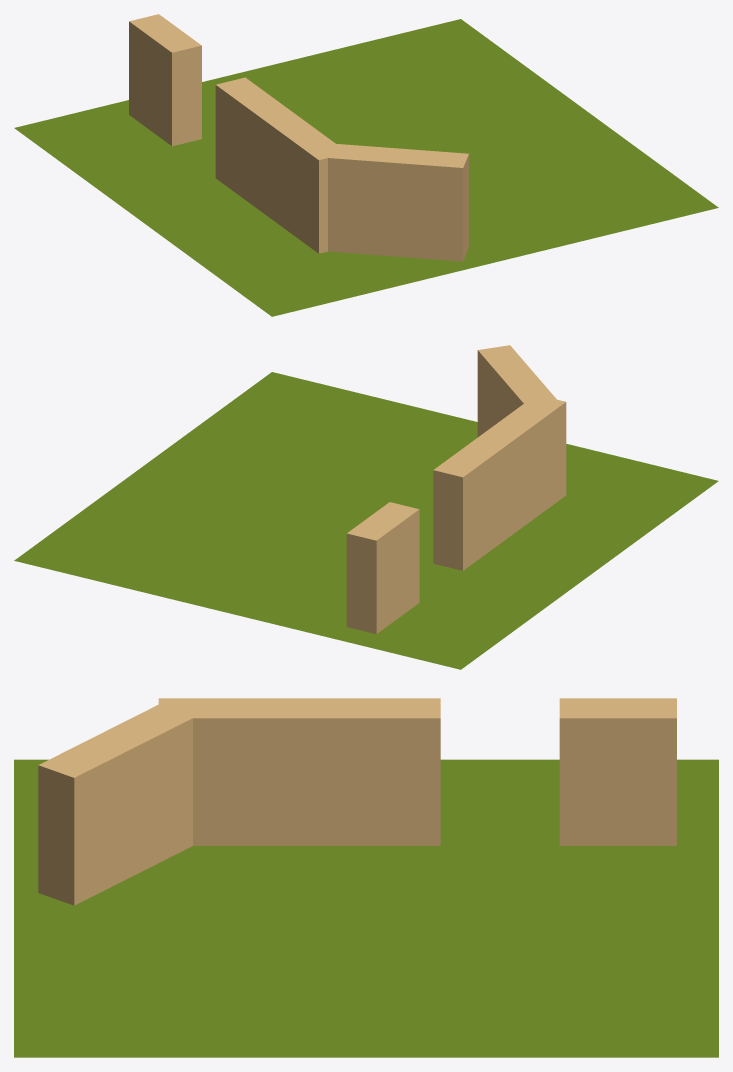
Rendered from university.glb.
3 renders of one model, top to bottom at view 1: azimuth 30°, elevation 25°; view 2: azimuth 150°, elevation 25°; view 3: azimuth 270°, elevation 25°, orthographic. The views are drawn at different scales.
Parts seen in each view (by area): view 1: 平面, 立方体.002, 立方体, 立方体.001; view 2: 平面, 立方体, 立方体.001, 立方体.002; view 3: 平面, 立方体, 立方体.002, 立方体.001.
Boxes of the visible parts, x1,y1,x2,y2 form: 平面: (14, 19, 718, 316); 立方体.002: (328, 143, 468, 261); 立方体: (215, 77, 347, 253); 立方体.001: (129, 14, 201, 146); 平面: (14, 372, 718, 669); 立方体: (433, 399, 566, 570); 立方体.001: (346, 502, 419, 634); 立方体.002: (477, 345, 556, 437); 平面: (14, 759, 718, 1057); 立方体: (158, 698, 440, 845); 立方体.002: (38, 704, 193, 905); 立方体.001: (559, 698, 676, 845).
Bounding box in the file's own units: 30 × 6 × 30.
